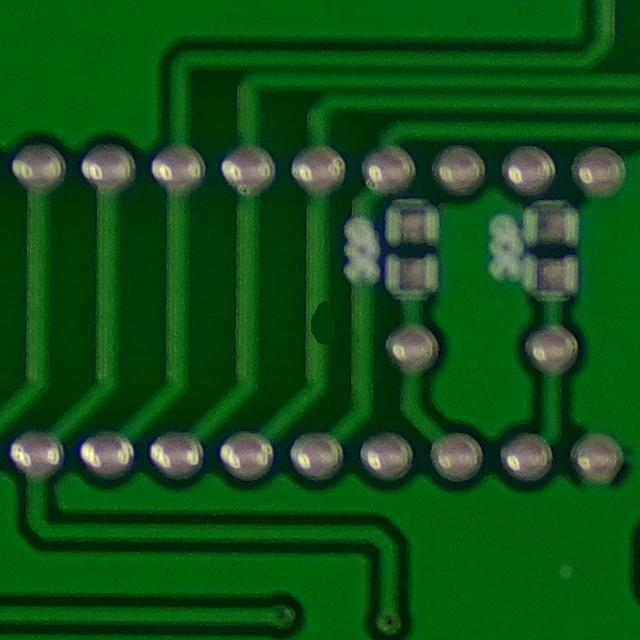mouse_bite: (294, 284, 346, 356)
